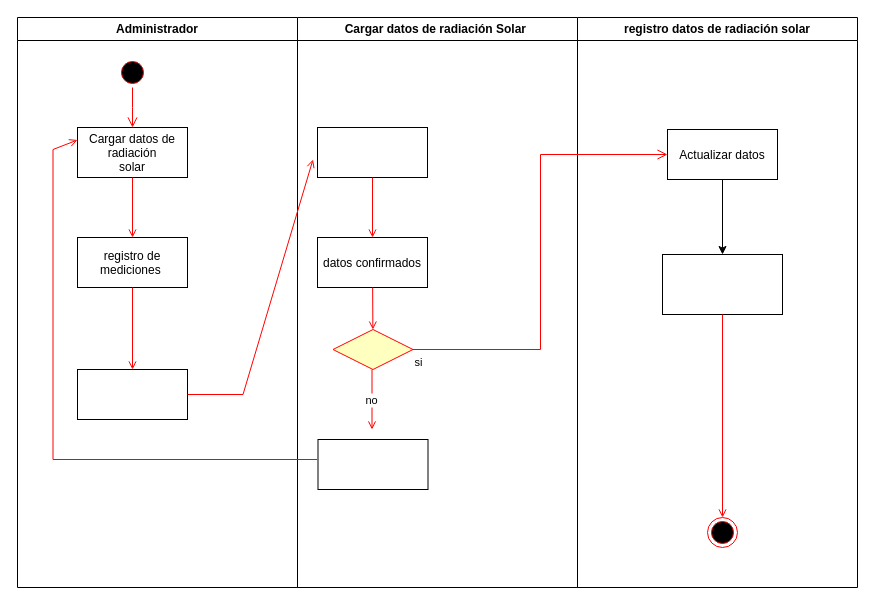
This 875x605 diagram has some shape labels left out. Each missing label, with the centre of its shape:
"Capturar datos" goes at point (372, 152).
"se muestra los datos cargados" goes at point (722, 284).
"Seleccionar el botón validar" goes at point (132, 394).
"volver a ingresar. los datos estan erróneos" goes at point (372, 464).
